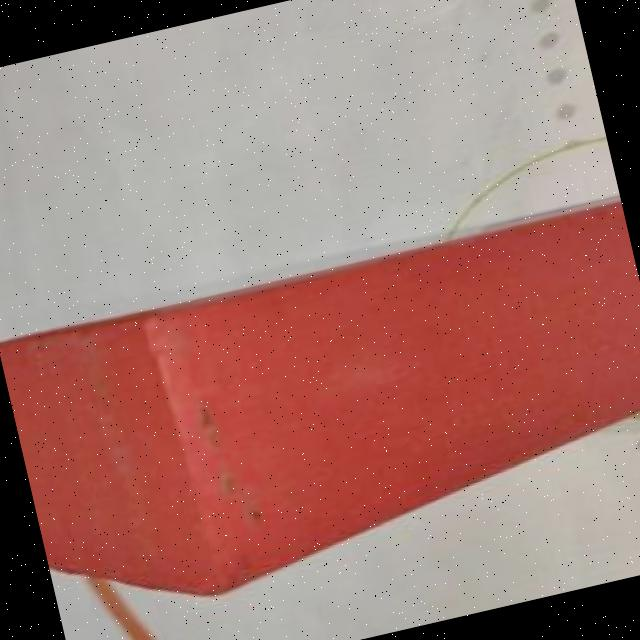redbox: (0, 196, 640, 627)
